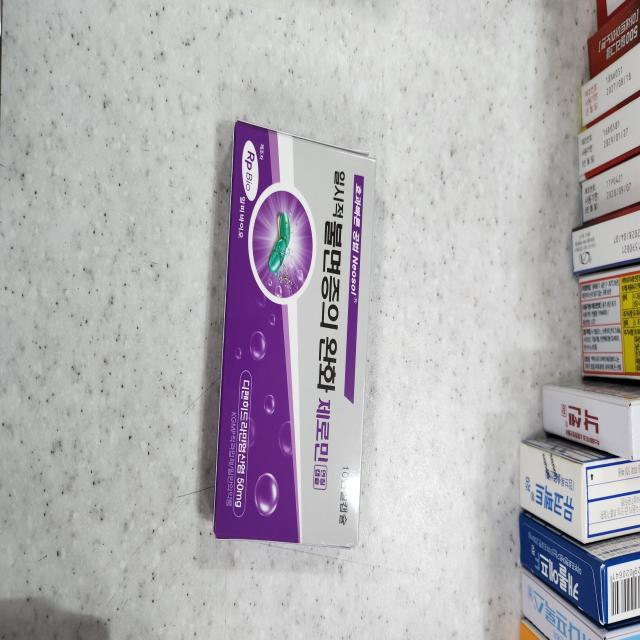box: (217, 123, 370, 544), (541, 384, 639, 462)
